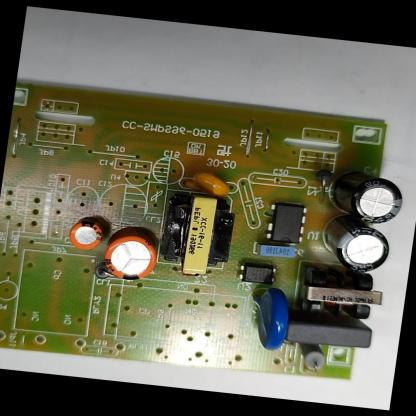Cap1: (99, 232, 160, 285)
Cap2: (66, 214, 106, 252)
Cap3: (314, 214, 394, 276)
Cap4: (324, 171, 406, 228)
MOSFET: (263, 200, 310, 246)
Mov: (243, 285, 295, 352)
Resistor: (294, 342, 329, 373)
Transformer: (159, 191, 238, 276), (294, 263, 388, 327)
